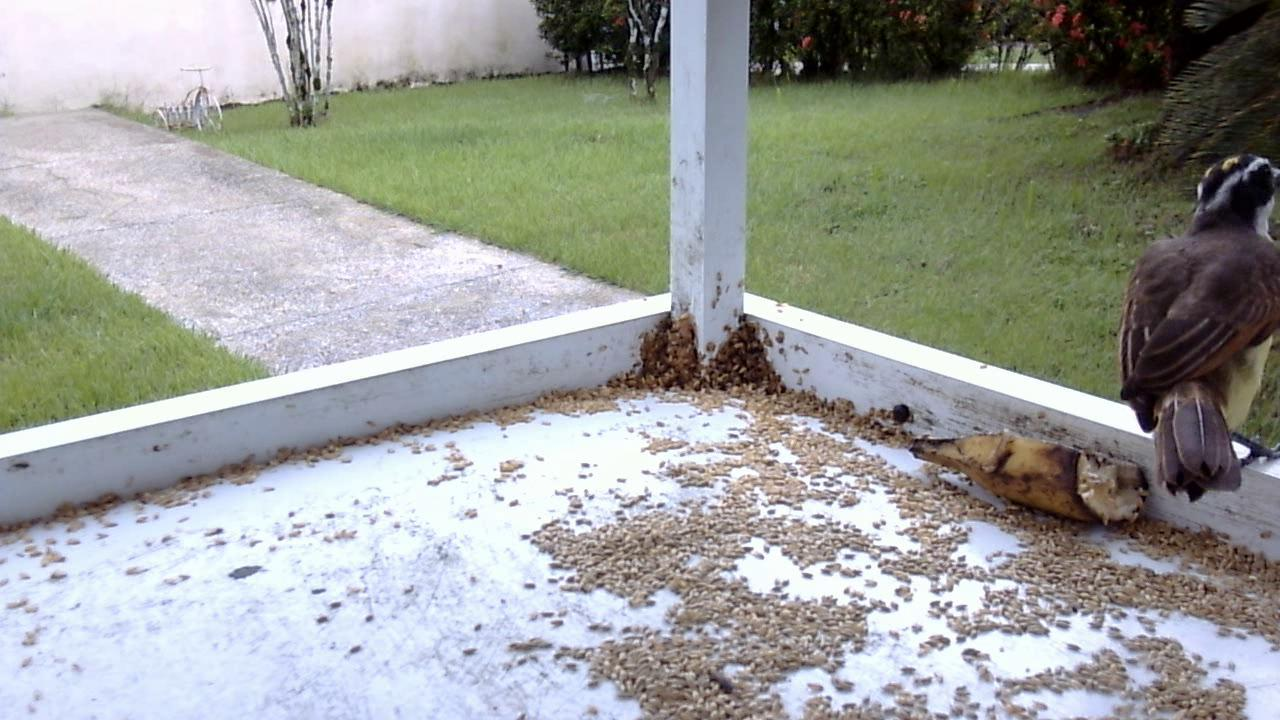bem_te_vi: (1103, 137, 1280, 510)
